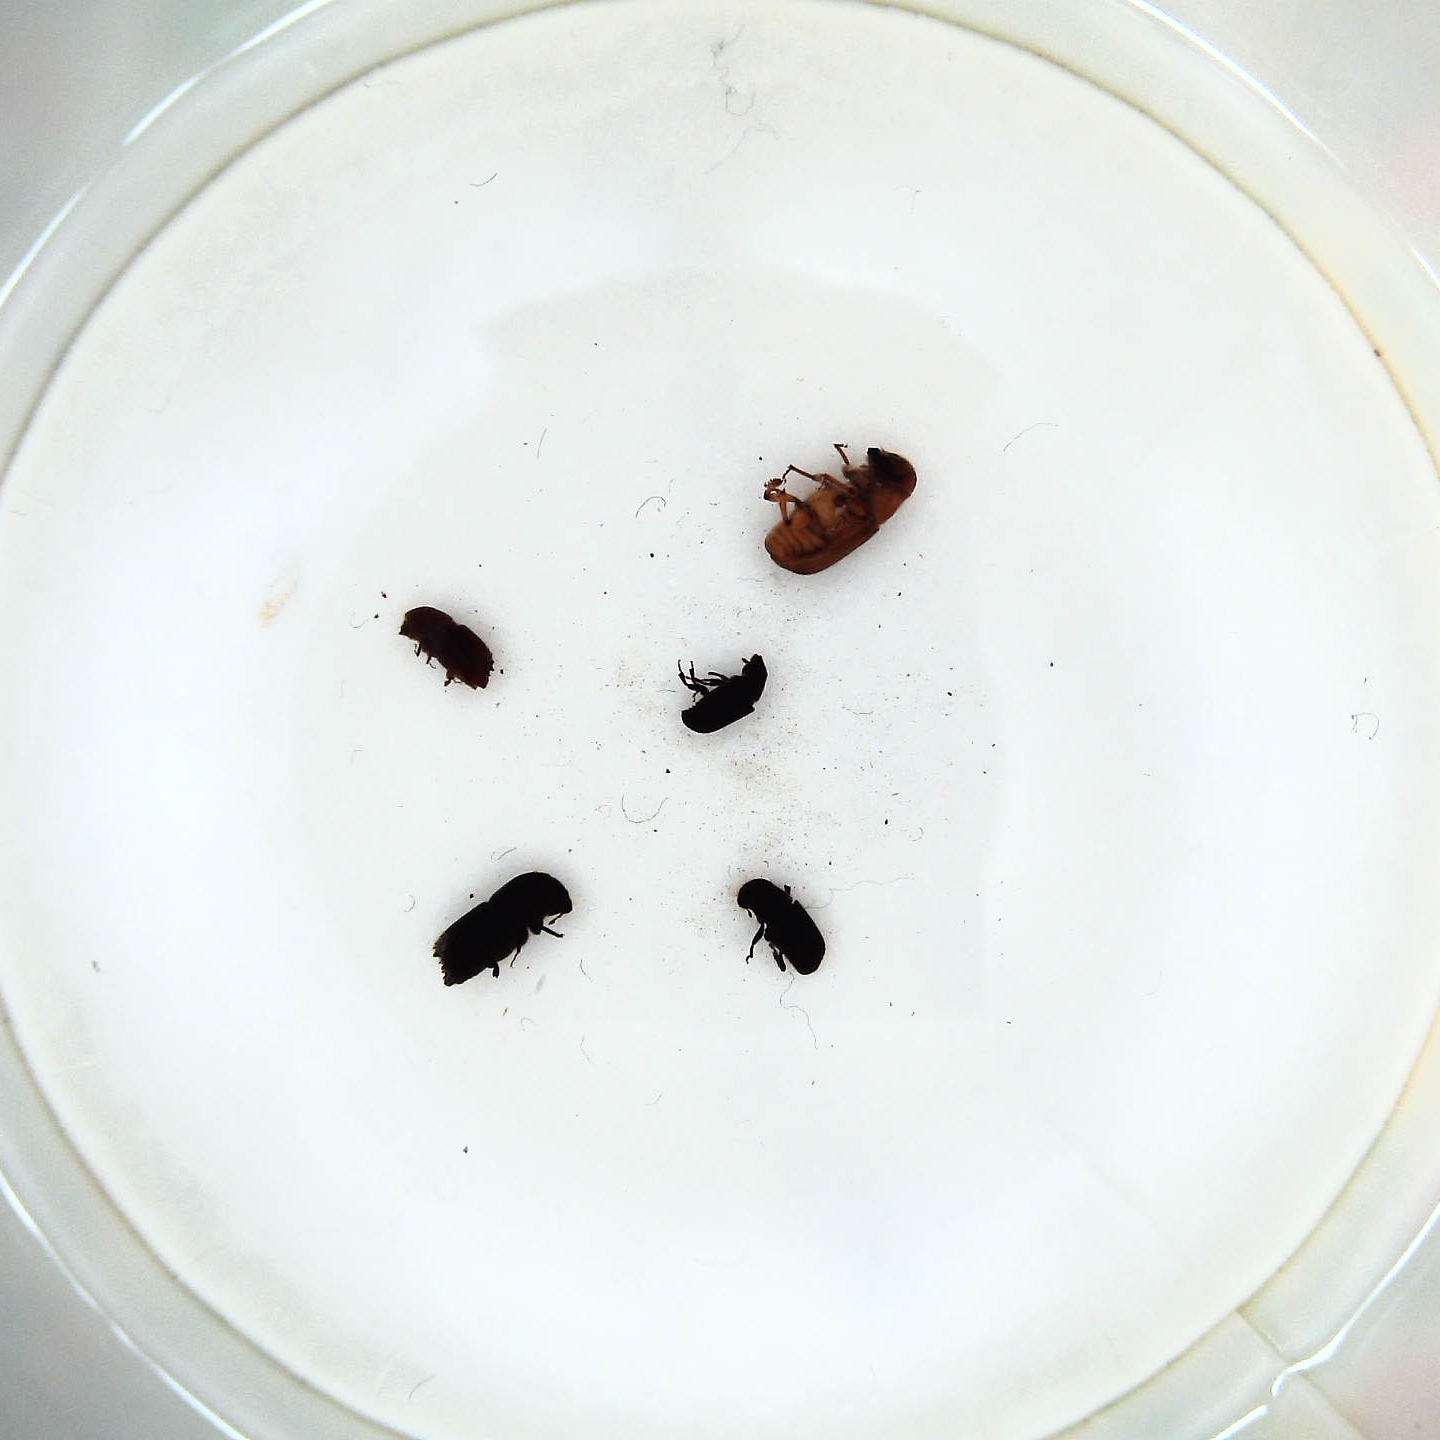Boerner: (433, 869, 579, 989)
Leconte: (764, 440, 924, 579)
armandi: (731, 874, 832, 978)
coleoptera: (671, 647, 774, 735)
linnaeus: (396, 603, 498, 696)
